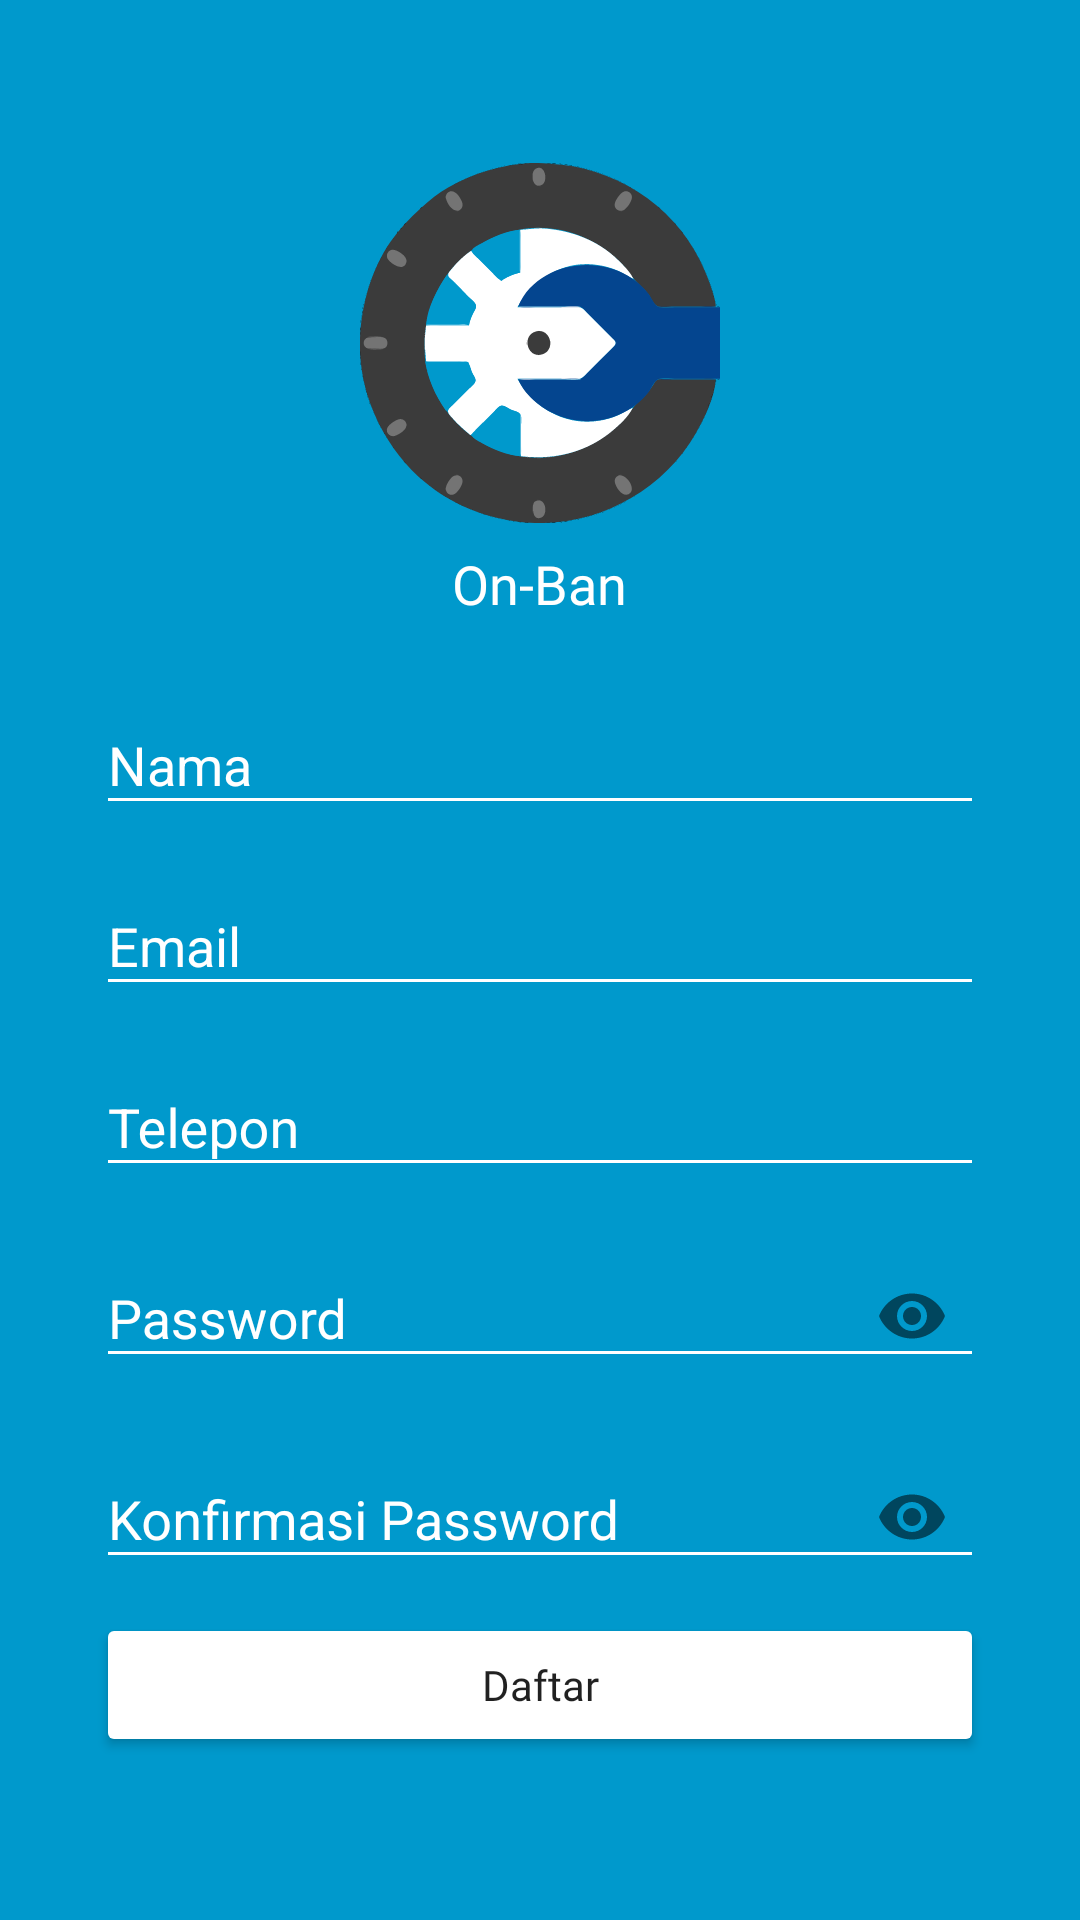

Screen size 1080 × 1920. Icon name, then its box in pixels as (x1, y1, x2, y2):
mechanic: (360, 163, 720, 523)
